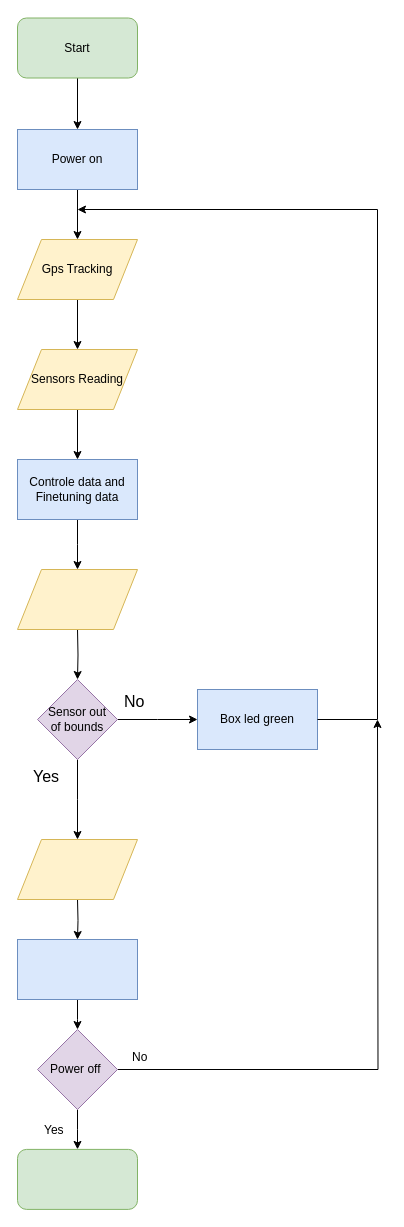
This 404x1227 diagram has some shape labels left out. Here are the shapes that lost their labels. From the top down, the centre of each, then its label:
At point (77, 599): "Send data To database".
At point (77, 869): "Sending Message".
At point (77, 969): "Box led red".
At point (77, 1178): "End".
